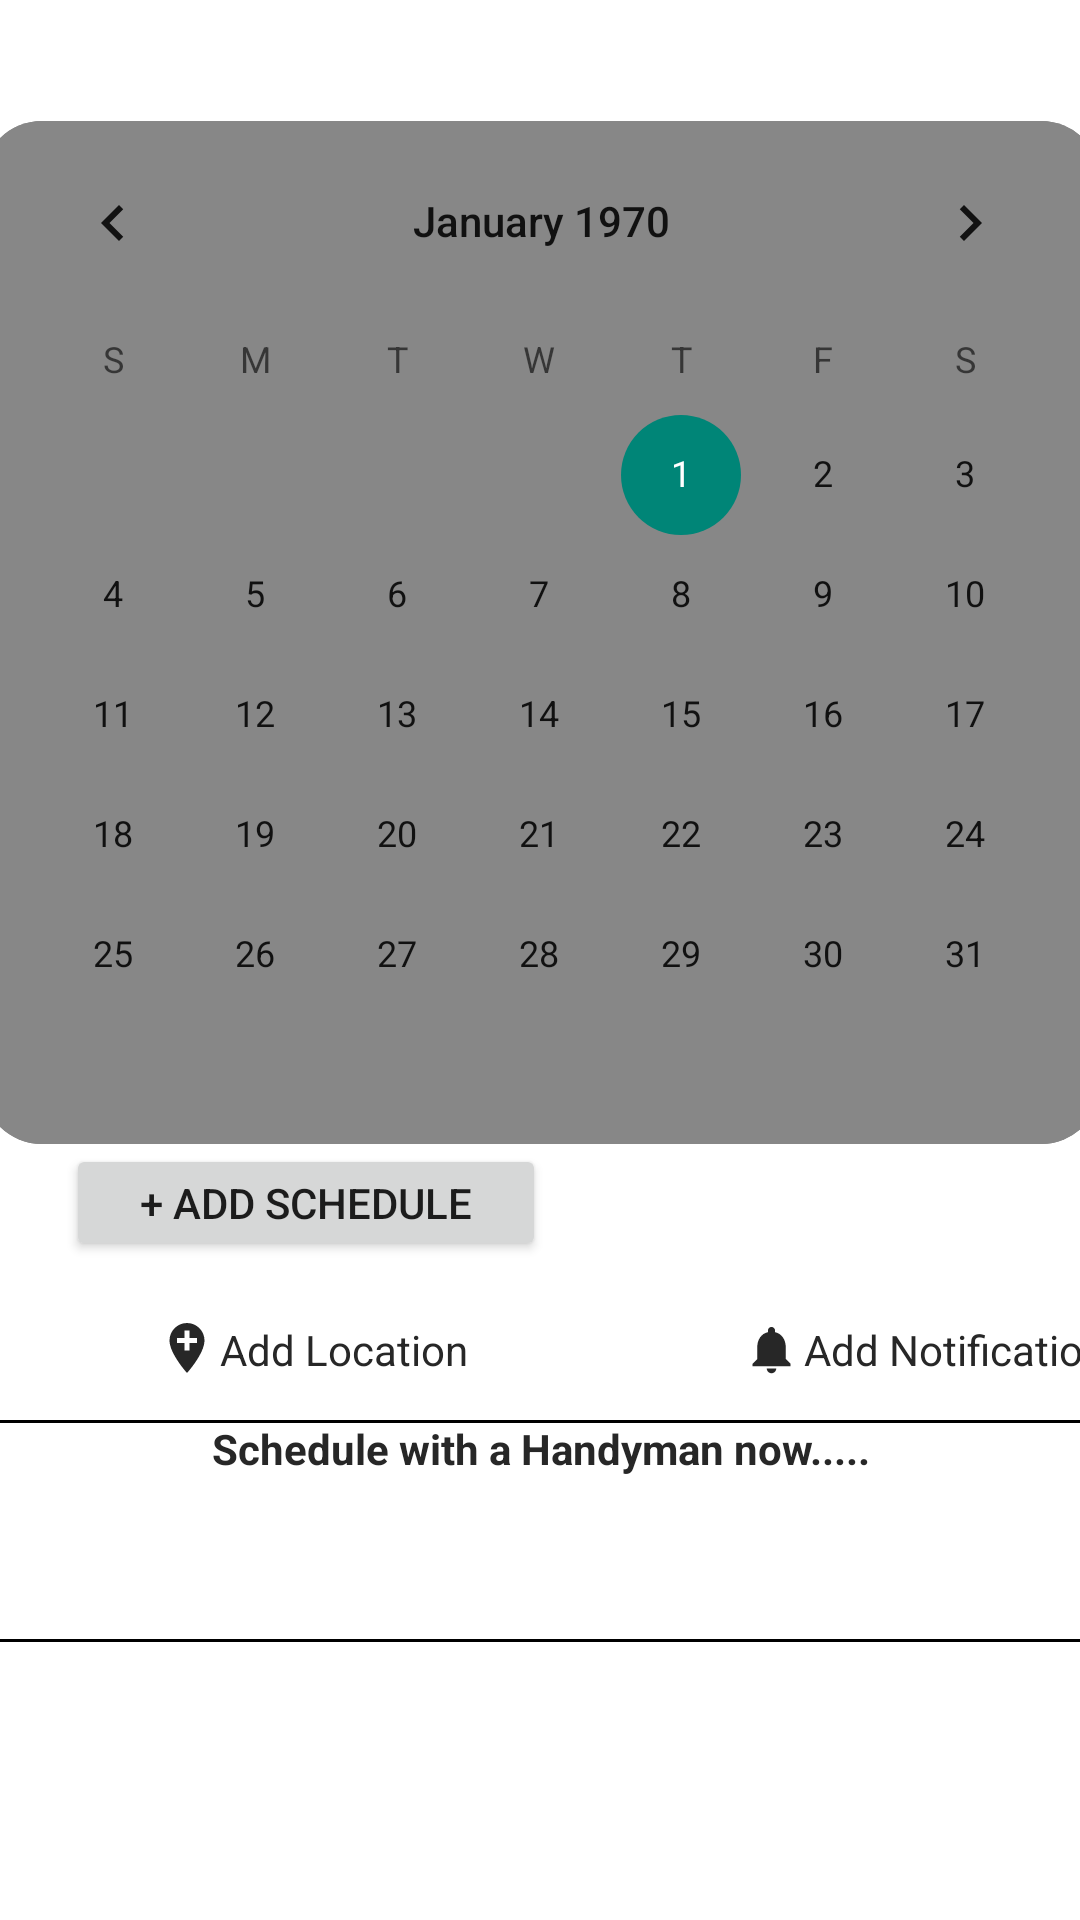

Point at icon controls on the screen. Image size 1080px x 1920px, points as (x,y).
notifications: (771,1350)
